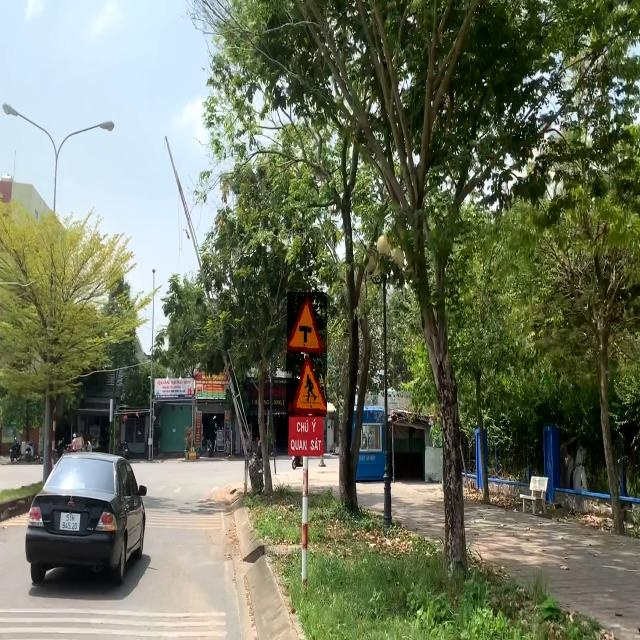bien_nguy_hiem: (286, 353, 327, 417), (287, 292, 327, 355)
